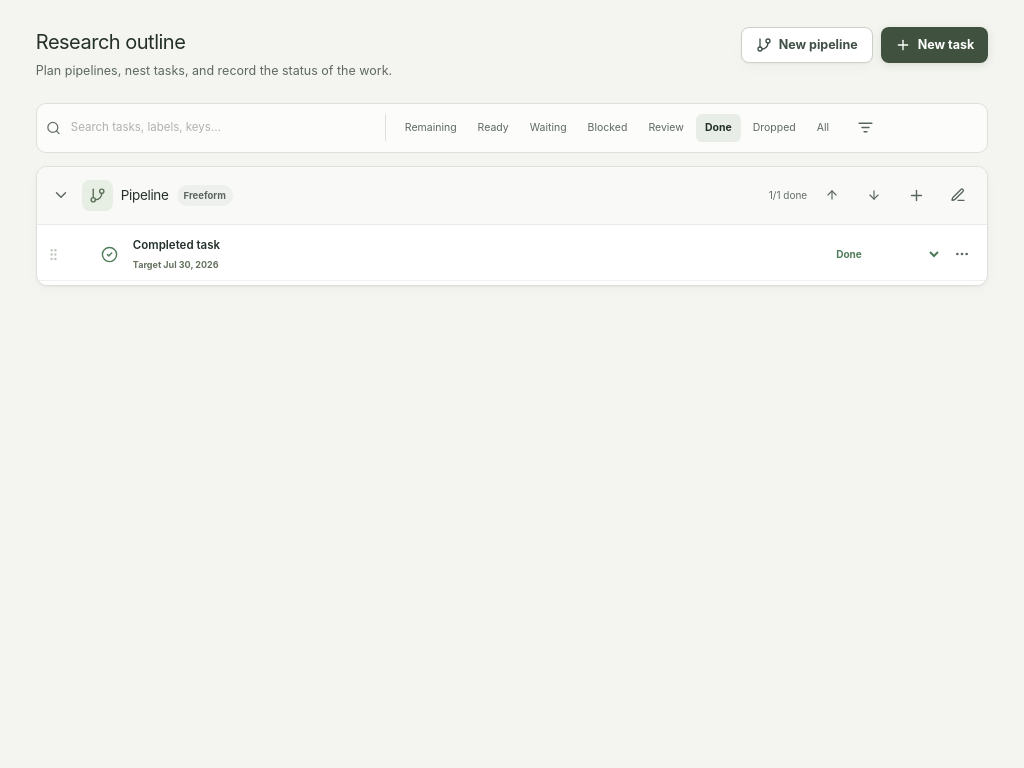
OutlineView completion evidence › shows completion provenance and links external and local evidence safely
Click the button "Completed task Target Jul 30, 2026" at (176, 245), box [128,234,819,275]
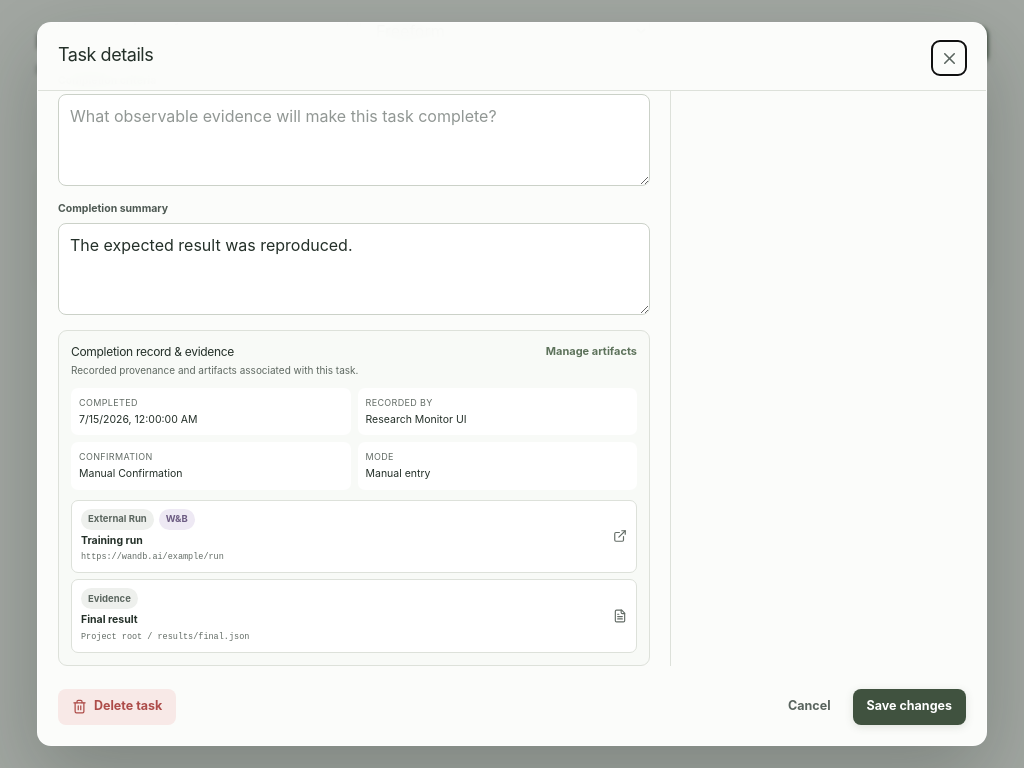
Expected: the text "Research Monitor UI" is shown, [366,413,466,426]
Expected: the text "Manual Confirmation" is shown, [79,467,182,480]
Expected: the text "Manual entry" is shown, [366,467,430,480]
